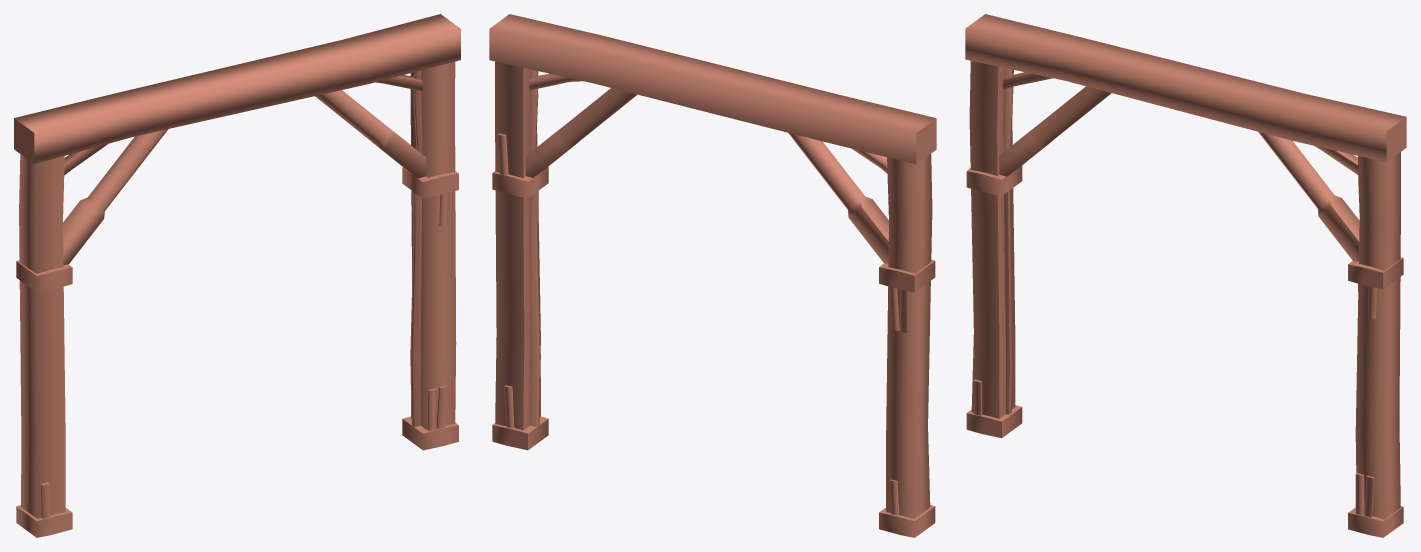
File: support_beams_b.fbx
The picture shows the model from 3 angles, left to right: view 1: azimuth 30°, elevation 25°; view 2: azimuth 150°, elevation 25°; view 3: azimuth 330°, elevation 25°; orthographic projection.
Parts seen in each view (by area): view 1: Cube.046; view 2: Cube.046; view 3: Cube.046.
Part boxes in pixels (left/top/right/bottom): Cube.046: left=14, top=14, right=460, bottom=537; Cube.046: left=489, top=14, right=936, bottom=537; Cube.046: left=965, top=14, right=1406, bottom=537.
Size of the model in its own units: 5.29 by 4.89 by 0.4722.
